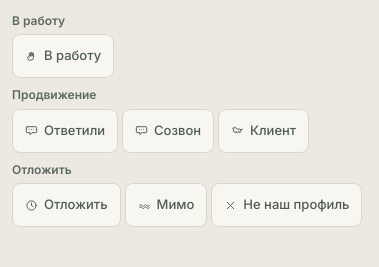
FeedbackButtons motion and status feedback › announces a saved status and confirms the semantic icon state
Click the button "Ответили": (65, 131) top-left (12, 109), bottom-right (118, 153)
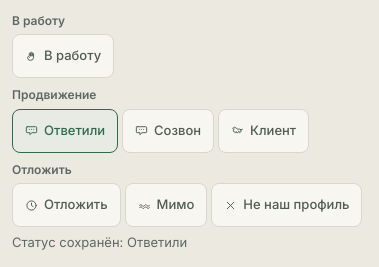
Expected: the message reads "Статус сохранён: Ответили", top-left (12, 234), bottom-right (187, 250)
